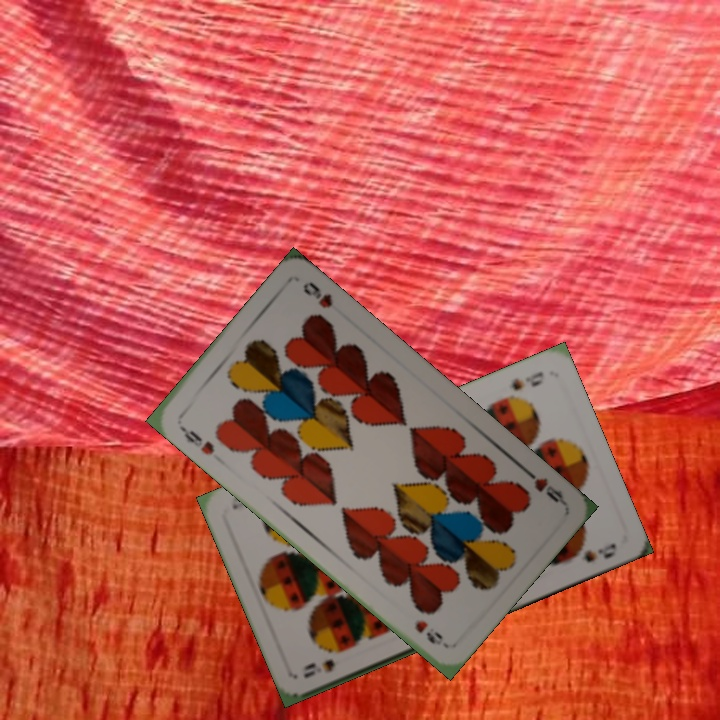H9: (518, 463, 568, 506), (175, 417, 217, 458)
S9: (507, 367, 546, 394), (299, 655, 338, 681)
